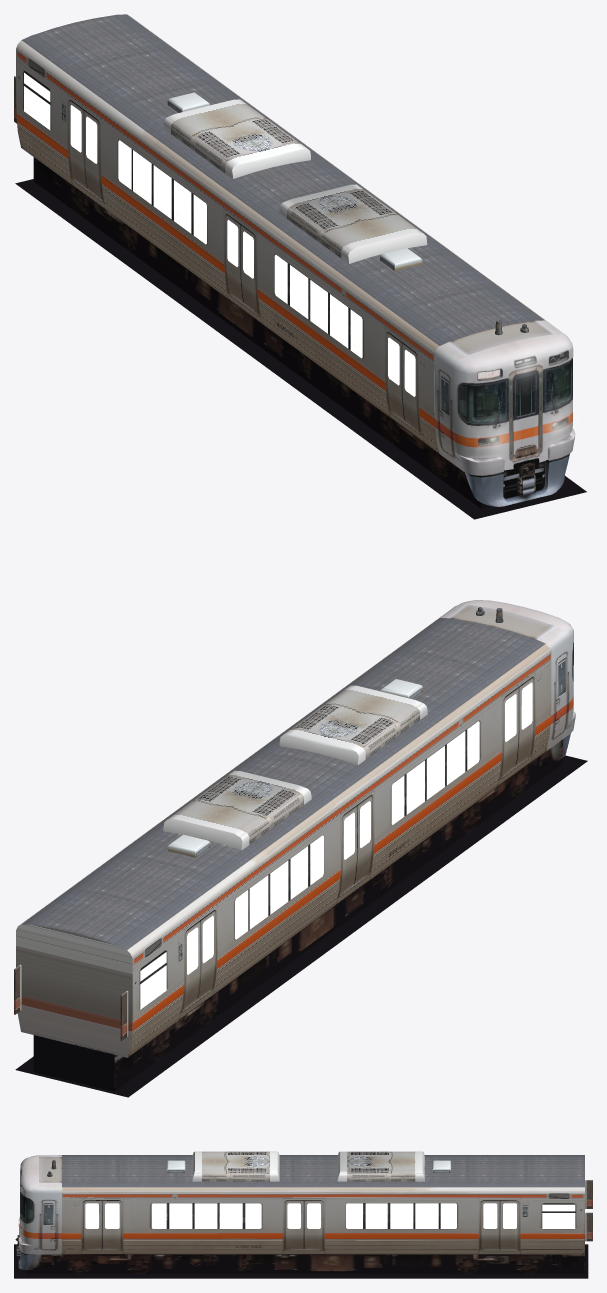
The picture shows the model from 3 angles, top to bottom: view 1: azimuth 30°, elevation 25°; view 2: azimuth 150°, elevation 25°; view 3: azimuth 270°, elevation 25°; orthographic projection. The views are drawn at different scales.
Visible parts, largest first — view 1: 車体, 窓, ac, 床下機器, 影, スカート, 前照灯 フレア, ステップ, box, ライトケース; view 2: 車体, 窓, 床下機器, ac, 影, box, 転落防止幌; view 3: 車体, 窓, 床下機器, ac, 影, box, 転落防止幌, ステップ, スカート.
Boxes of the visible parts, x1,y1,x2,y2 form: 車体: (16,14,573,470); 窓: (16,49,434,420); ac: (163,99,427,263); 床下機器: (33,157,561,508); 影: (15,179,586,519); スカート: (465,453,569,506); 前照灯 フレア: (484,346,570,459); ステップ: (454,428,575,475); box: (167,92,422,270); ライトケース: (478,351,568,445); 車体: (16,600,573,1057); 窓: (132,652,551,1024); 床下機器: (33,739,562,1091); ac: (163,685,427,850); 影: (15,755,587,1097); box: (167,679,422,857); 転落防止幌: (14,964,128,1040); 車体: (19,1155,584,1254); 窓: (62,1193,584,1234); 床下機器: (25,1254,584,1273); ac: (192,1151,424,1181); 影: (14,1244,588,1278); box: (167,1160,450,1172); 転落防止幌: (585,1180,592,1241); ステップ: (18,1217,39,1254); スカート: (18,1231,35,1269).
Bounding box in the file's own units: 3.32 × 4.54 × 20.5.
Materials: 22 (21 with a texture image).
